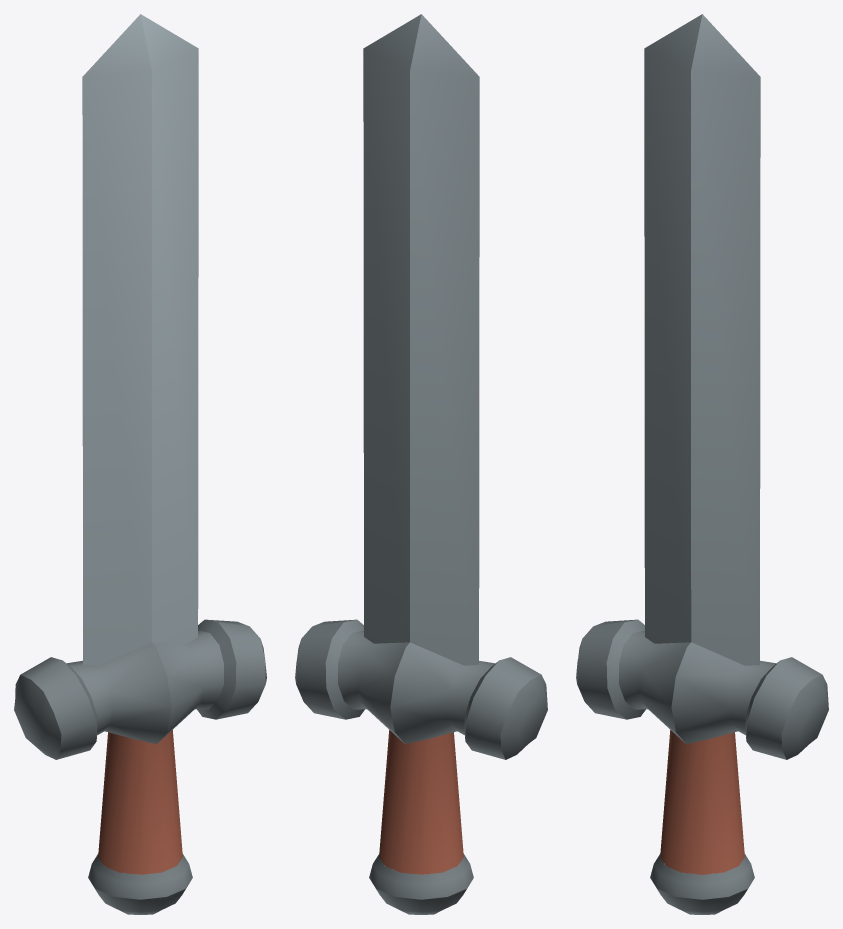
File: sword.gltf
The picture shows the model from 3 angles, left to right: view 1: azimuth 30°, elevation 25°; view 2: azimuth 150°, elevation 25°; view 3: azimuth 330°, elevation 25°; orthographic projection.
Parts seen in each view (by area): view 1: Cube4214, Cube4214_2, Cube4214_1; view 2: Cube4214, Cube4214_2, Cube4214_1; view 3: Cube4214, Cube4214_2, Cube4214_1.
Boxes of the visible parts, bbox=[...] form: Cube4214: bbox=[82, 14, 198, 665]; Cube4214_2: bbox=[14, 619, 266, 914]; Cube4214_1: bbox=[98, 730, 182, 874]; Cube4214: bbox=[363, 14, 479, 665]; Cube4214_2: bbox=[295, 619, 547, 914]; Cube4214_1: bbox=[379, 730, 463, 874]; Cube4214: bbox=[644, 14, 760, 665]; Cube4214_2: bbox=[576, 619, 828, 914]; Cube4214_1: bbox=[660, 730, 744, 874].
Bounding box in the file's own units: 0.4102 × 1.51 × 0.1914.
